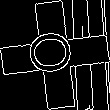O_E: (27, 31, 83, 79)
